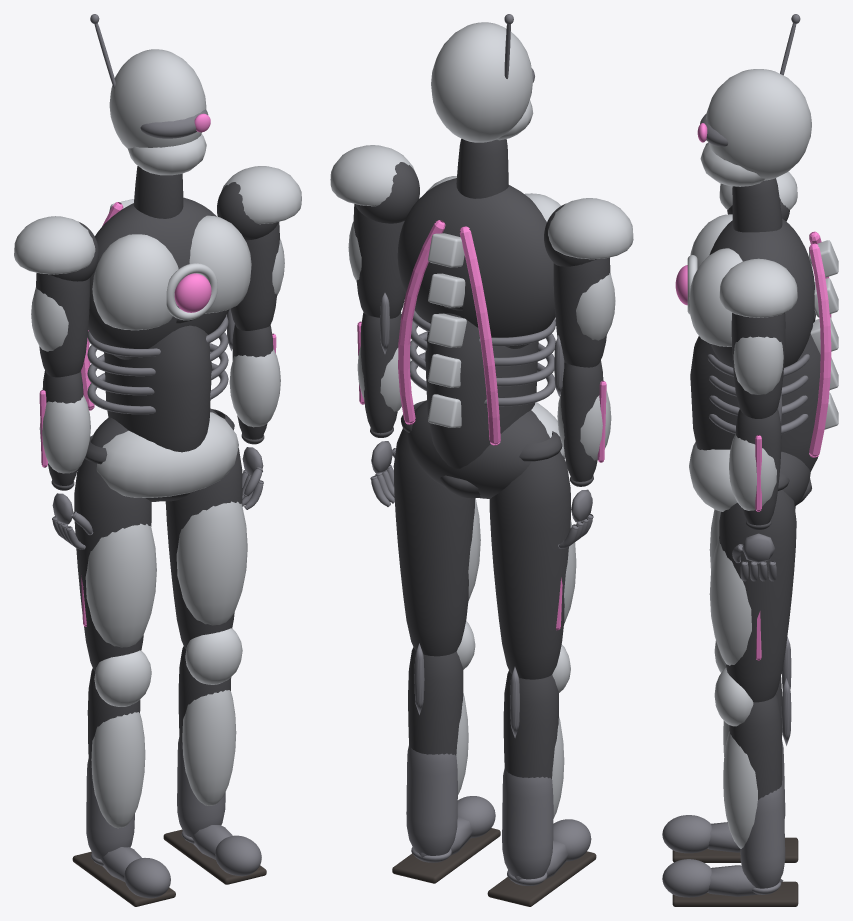
Rendered from Ciborg.fbx.
3 renders of one model, left to right at view 1: azimuth 30°, elevation 25°; view 2: azimuth 150°, elevation 25°; view 3: azimuth 270°, elevation 25°, orthographic. The views are drawn at different scales.
Visible parts, largest first — view 1: Placas pectorales, Abdomen, Craneo, Placa pelvica, Placa muslo_D, Placa muslo_I, Pecho, Femur_D, Greba_I, Greba_D, Bota_D, Bota_I (+26 smaller); view 2: Pecho, Femur_D, Femur_I, Craneo, Abdomen, Bota_I, Bota_D, Pelvis, Espina, Conductos, Tibia_D, Tibia_I (+21 smaller); view 3: Craneo, Femur_I, Abdomen, Bota_I, Pecho, Placas pectorales, Hombro_I, Placa muslo_I, Tibia_I, Greba_I, Humero_I, Conductos (+18 smaller).
Part boxes in pixels (box(x1,y1,x2,y2)): Placas pectorales: box(92, 215, 251, 330); Abdomen: box(104, 318, 211, 501); Craneo: box(109, 49, 206, 175); Placa pelvica: box(96, 412, 238, 497); Placa muslo_D: box(85, 523, 156, 647); Placa muslo_I: box(176, 501, 247, 625); Pecho: box(88, 197, 229, 359); Femur_D: box(74, 434, 151, 671); Greba_I: box(182, 690, 236, 805); Greba_D: box(91, 712, 145, 828); Bota_D: box(86, 759, 170, 898); Bota_I: box(177, 736, 261, 876); Pecho: box(397, 178, 555, 348); Femur_D: box(489, 431, 570, 679); Femur_I: box(393, 400, 475, 656); Craneo: box(431, 22, 533, 142); Abdomen: box(425, 303, 538, 498); Bota_I: box(406, 744, 495, 862); Bota_D: box(502, 768, 591, 885); Pelvis: box(407, 400, 549, 498); Espina: box(428, 233, 466, 427); Conductos: box(398, 220, 500, 445); Tibia_D: box(503, 670, 558, 778); Tibia_I: box(408, 647, 463, 755); Craneo: box(700, 69, 811, 186); Femur_I: box(719, 472, 796, 702); Abdomen: box(690, 311, 820, 504); Bota_I: box(662, 785, 785, 897); Pecho: box(709, 218, 814, 367); Placas pectorales: box(689, 214, 742, 346); Hombro_I: box(719, 258, 797, 317); Placa muslo_I: box(709, 539, 751, 665); Tibia_I: box(729, 693, 782, 799); Greba_I: box(723, 731, 757, 848); Humero_I: box(731, 313, 785, 418); Conductos: box(809, 231, 831, 457).
Bounding box in the file's own units: 0.6888 × 1.99 × 0.379.
